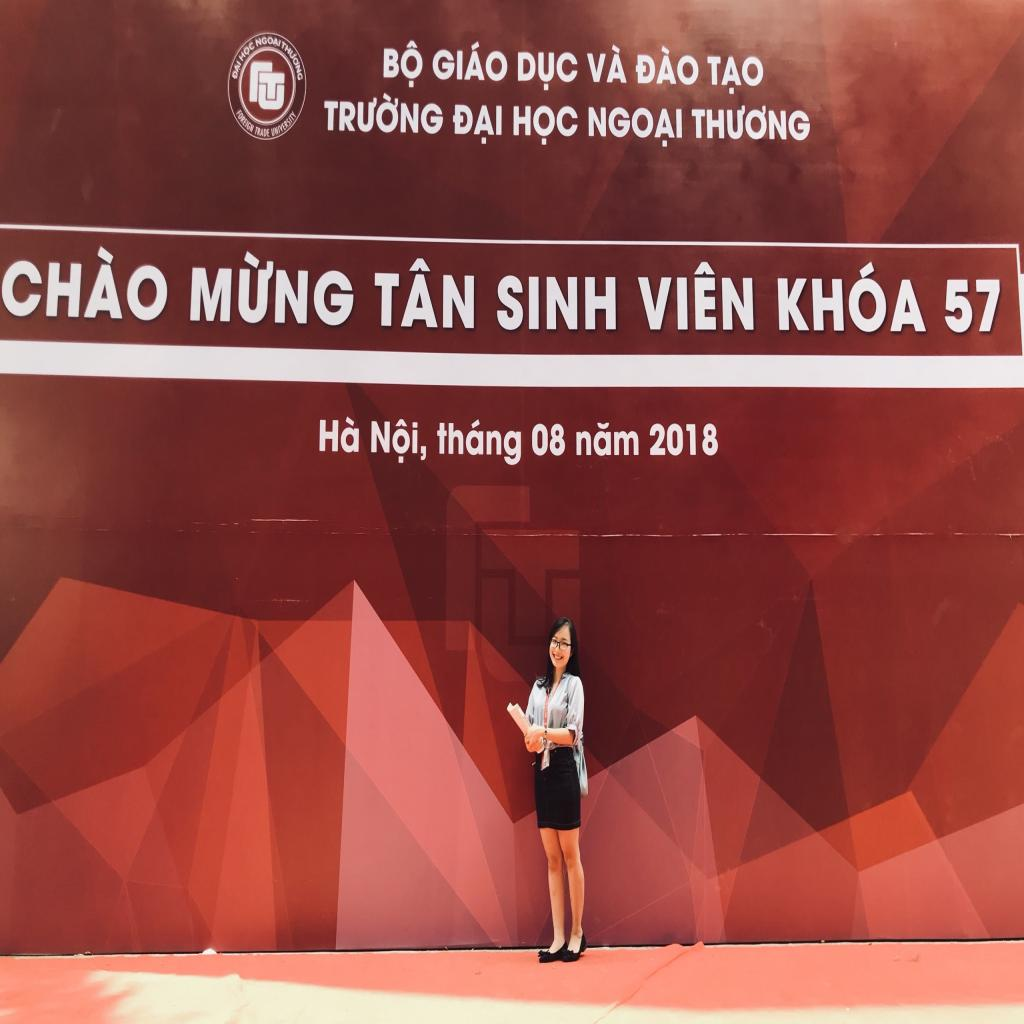text: (0, 238, 171, 324), (188, 244, 356, 330), (775, 259, 929, 335), (632, 260, 756, 333), (372, 254, 478, 332), (495, 274, 618, 334), (322, 88, 445, 136), (690, 103, 812, 143), (436, 417, 522, 469), (587, 106, 684, 150), (430, 39, 510, 85), (943, 277, 1003, 336), (632, 41, 702, 88), (370, 415, 429, 466), (512, 104, 580, 148), (516, 48, 580, 94), (706, 53, 766, 97), (648, 422, 719, 458), (575, 420, 640, 458), (451, 100, 504, 146), (382, 37, 425, 89), (585, 40, 629, 86), (318, 415, 361, 455), (280, 34, 311, 84), (531, 421, 567, 458), (270, 108, 300, 142), (234, 106, 256, 138), (236, 39, 257, 65), (253, 35, 284, 50), (229, 58, 243, 83), (254, 124, 271, 138)
